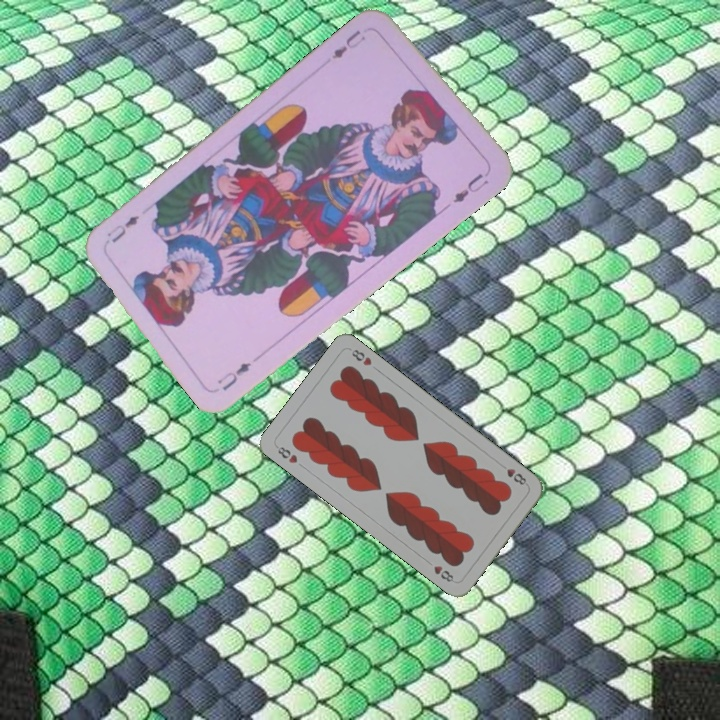EU: (327, 26, 369, 62), (213, 358, 255, 394)
H8: (272, 442, 300, 466), (503, 464, 529, 488)
